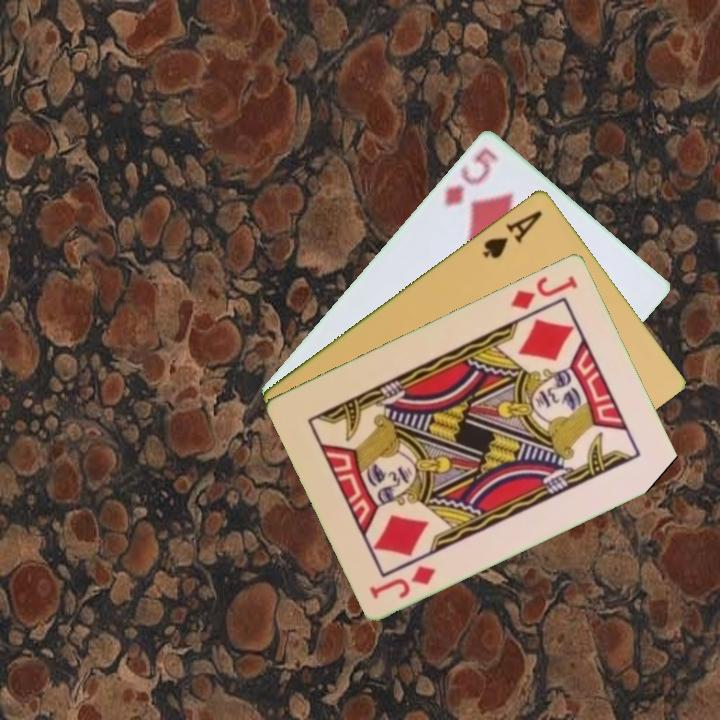5d: (440, 143, 502, 209)
As: (478, 206, 546, 261)
Jd: (507, 271, 581, 312), (366, 561, 439, 601)
